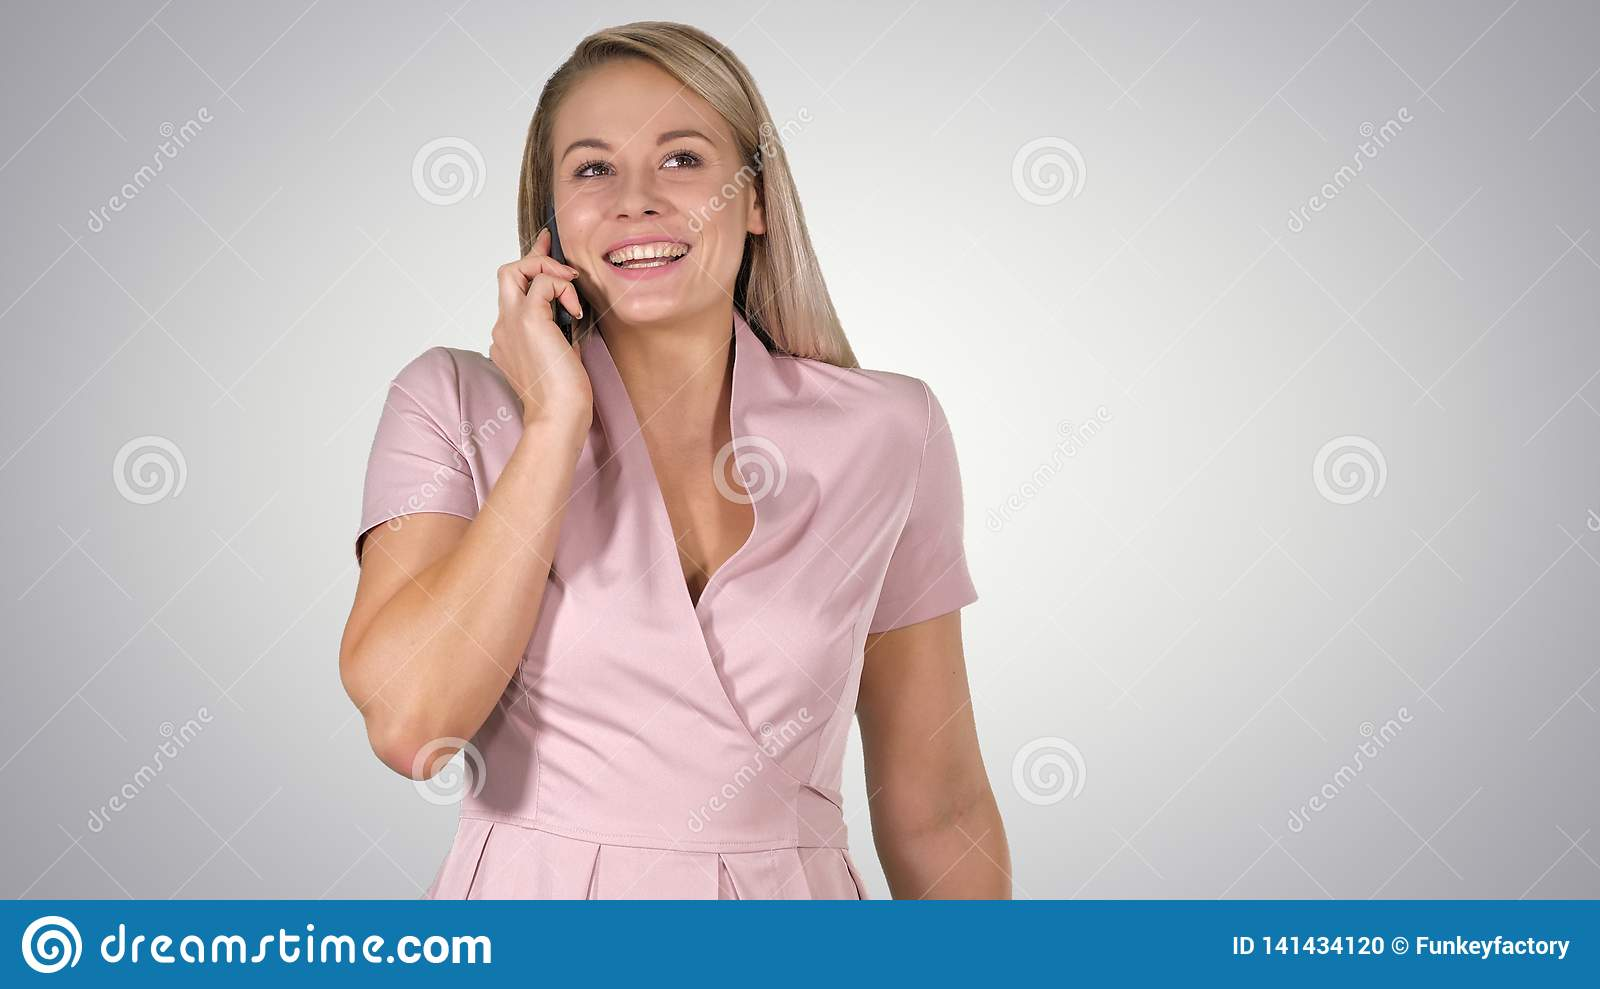phone: (543, 182, 575, 351)
talk: (490, 118, 735, 446)
